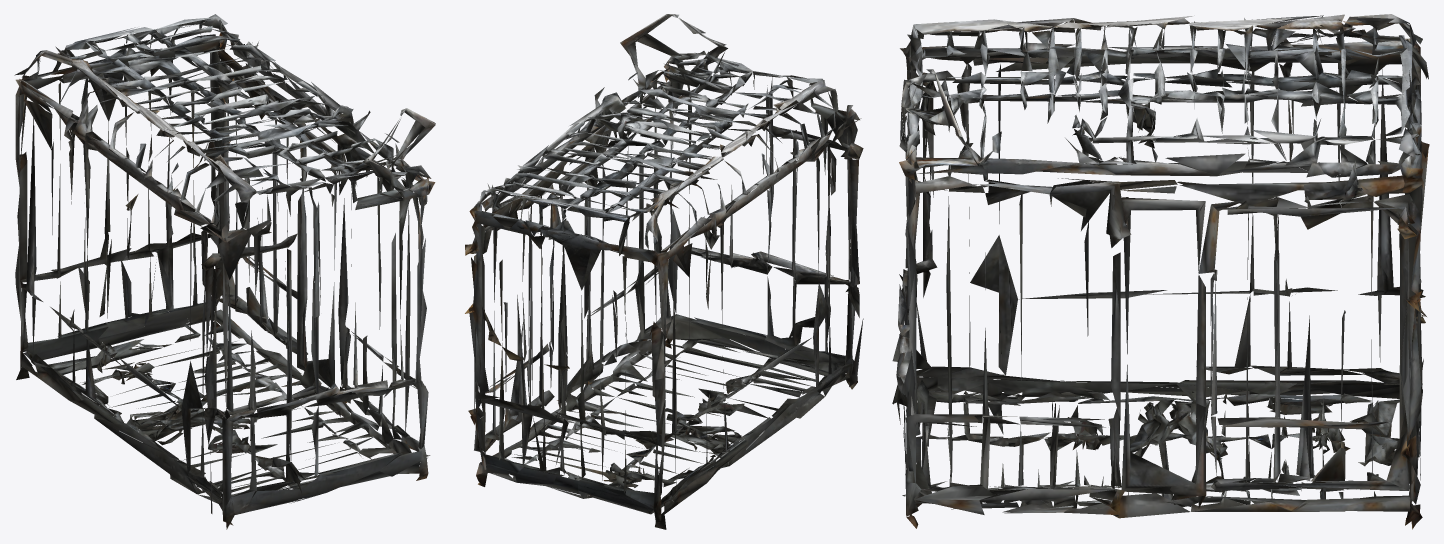
The model's file is feeding_cage_LOD1.fbx.
3 views of the same model, side by side, from view 1: azimuth 30°, elevation 25°; view 2: azimuth 150°, elevation 25°; view 3: azimuth 270°, elevation 25° (orthographic). The views are drawn at different scales.
Visible parts, largest first — view 1: feeding_cage.001; view 2: feeding_cage.001; view 3: feeding_cage.001.
Part boxes in pixels (left/top/right/bottom): feeding_cage.001: left=14, top=14, right=435, bottom=529; feeding_cage.001: left=465, top=14, right=863, bottom=529; feeding_cage.001: left=892, top=14, right=1429, bottom=529.
Bounding box in the file's own units: 1.29 × 1.85 × 2.
1 material, 1 textured.
